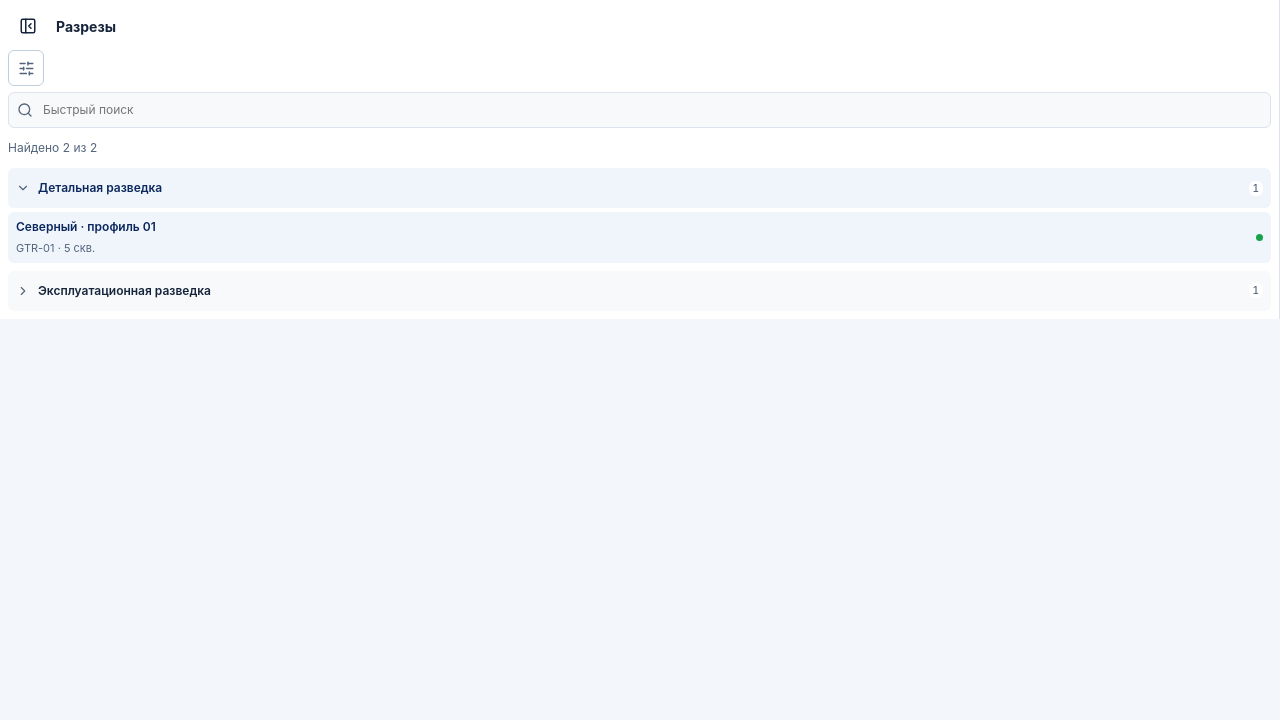
Scenario: compact section registry › filters the two demo branches by study stage independently of section type
Click the button named "Фильтры разрезов".
click(26, 68)  # box [8,50,44,86]
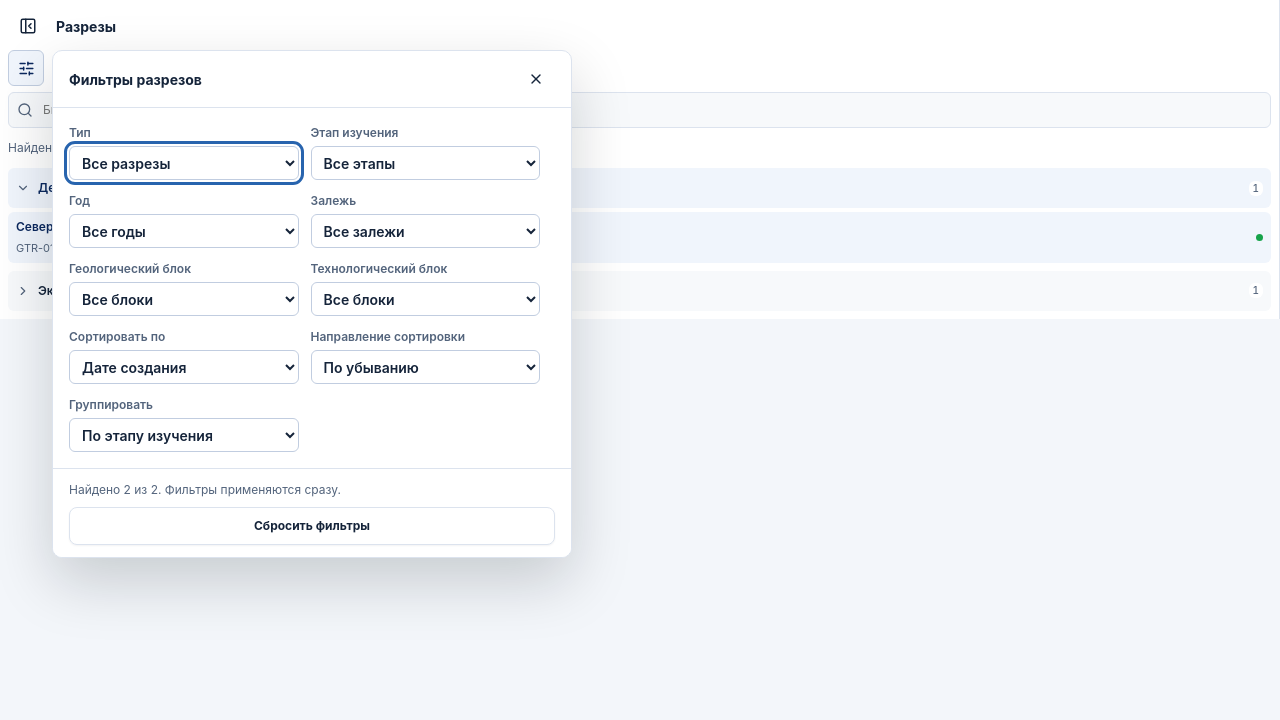
Select "Детальная разведка" in the dropdown labelled "Этап изучения" at (425, 163), box [310,146,540,180]
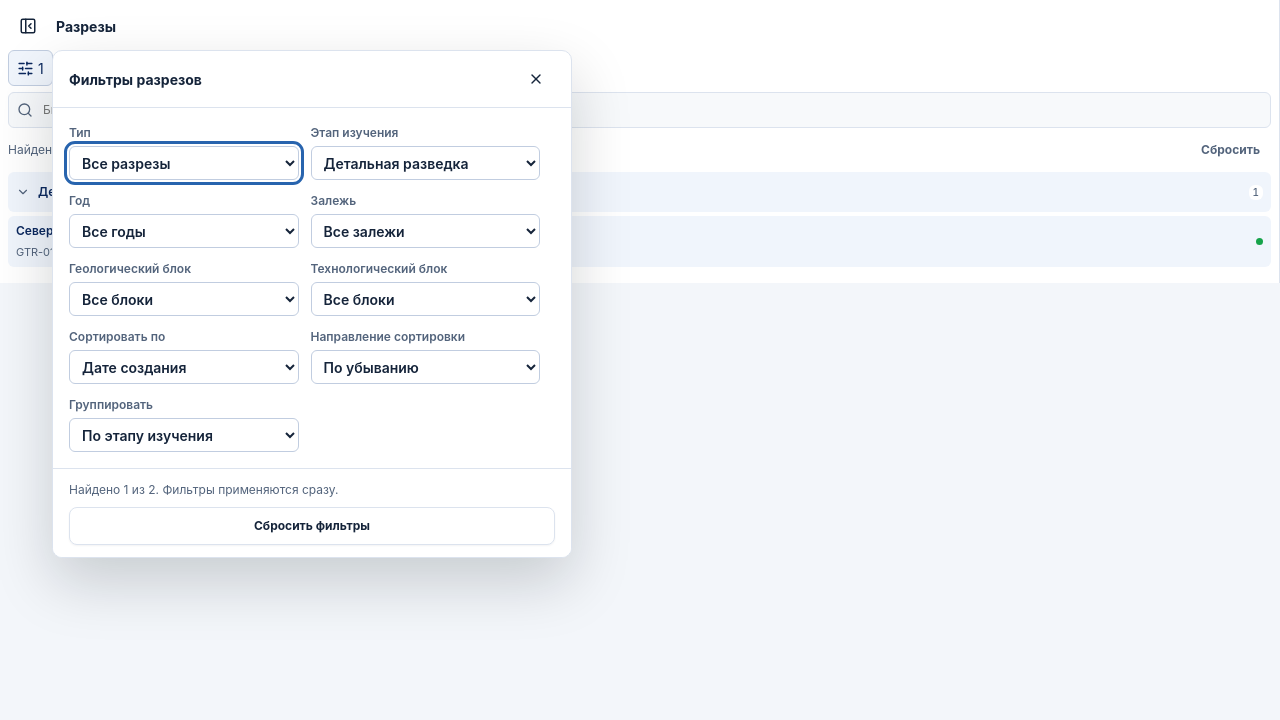
Expected: the text "Детальная разведка" is shown, [38,184,162,199]
Now the heading "Эксплуатационная разведка" is gone
Select "Эксплуатационная разведка" in the dropdown labelled "Этап изучения" at (425, 163), box [310,146,540,180]
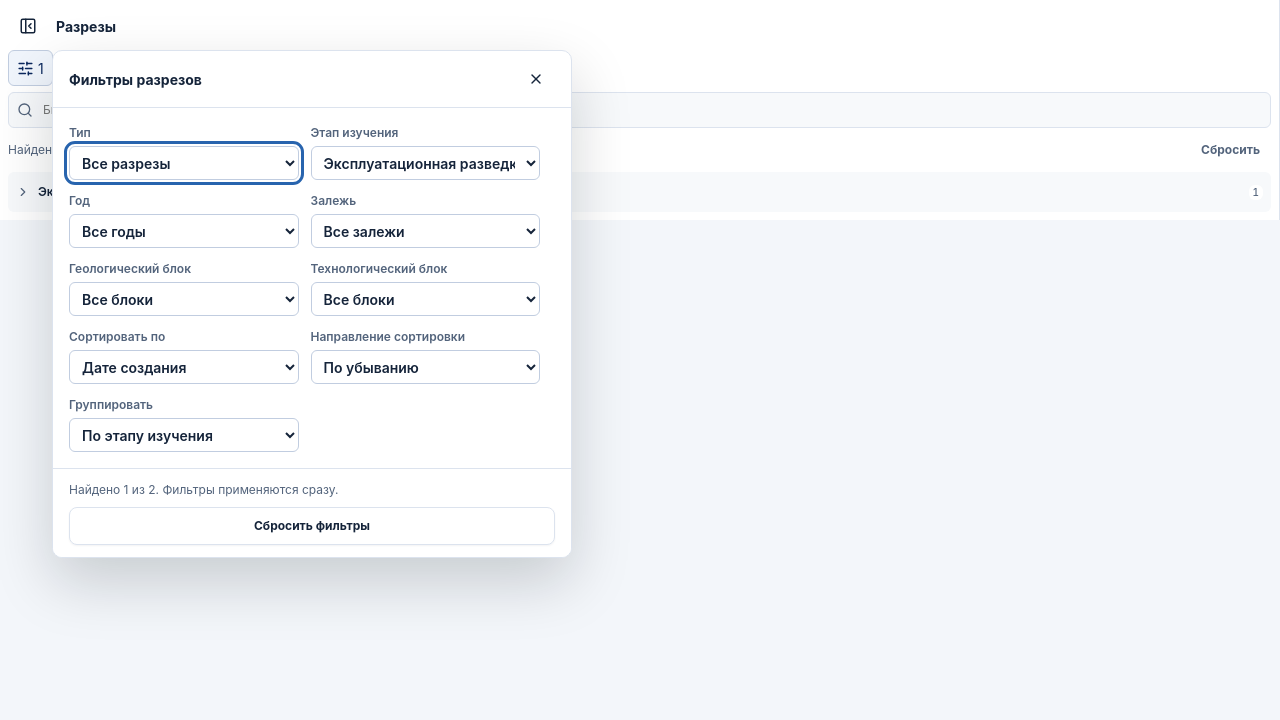
Now the text "Эксплуатационная разведка" is shown, box [38,184,211,199]
Now the heading "Детальная разведка" is gone
